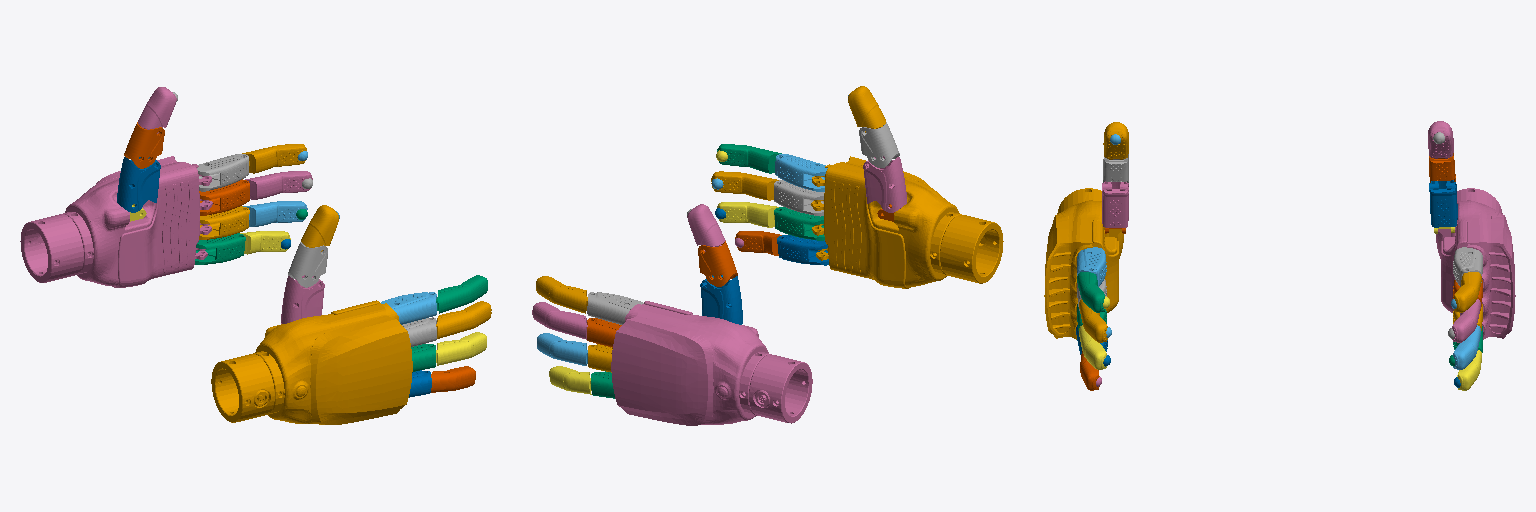
--- Render facts (derived) ---
3 views of the same robot in one strip: view 1: azimuth 30°, elevation 25°; view 2: azimuth 150°, elevation 25°; view 3: azimuth 270°, elevation 25° (orthographic).
Robot: g1_inspire_gen4 — 73 links, 72 joints (53 revolute, 19 fixed); root link pelvis; default pose: every joint at zero.
Links seen in each view (by area): view 1: right_base_link, left_base_link, left_thumb_2, right_thumb_2, left_index_1, left_middle_2, right_thumb_3, left_thumb_3, right_middle_2, right_index_1, left_index_2, right_index_2 (+11 smaller); view 2: left_base_link, right_base_link, right_thumb_2, left_thumb_2, right_index_1, right_middle_2, left_thumb_3, right_thumb_3, left_middle_2, left_index_1, right_index_2, left_index_2 (+12 smaller); view 3: left_base_link, right_base_link, left_thumb_2, right_thumb_2, right_index_2, right_index_1, left_index_1, left_index_2, right_thumb_4, left_thumb_4, left_middle_2, right_middle_2 (+5 smaller).
Boxes of the visible links, box(x1,y1,x2,y2) form: right_base_link: box(211, 300, 412, 424); left_base_link: box(20, 156, 212, 287); left_thumb_2: box(117, 157, 160, 212); right_thumb_2: box(281, 275, 324, 323); left_index_1: box(197, 154, 248, 191); left_middle_2: box(245, 171, 312, 199); right_thumb_3: box(288, 242, 327, 287); left_thumb_3: box(124, 122, 164, 168); right_middle_2: box(436, 301, 491, 338); right_index_1: box(381, 292, 436, 324); left_index_2: box(242, 144, 306, 173); right_index_2: box(436, 275, 487, 313); left_base_link: box(611, 301, 812, 425); right_base_link: box(811, 156, 1003, 288); right_thumb_2: box(863, 156, 906, 212); left_thumb_2: box(700, 275, 742, 324); right_index_1: box(775, 154, 827, 191); right_middle_2: box(711, 171, 778, 200); left_thumb_3: box(698, 241, 737, 286); right_thumb_3: box(859, 122, 899, 167); left_middle_2: box(532, 302, 587, 339); left_index_1: box(587, 292, 643, 324); right_index_2: box(717, 144, 781, 173); left_index_2: box(536, 276, 587, 313); left_base_link: box(1436, 188, 1515, 339); right_base_link: box(1044, 188, 1123, 339); left_thumb_2: box(1429, 180, 1457, 227); right_thumb_2: box(1102, 181, 1128, 227); right_index_2: box(1077, 272, 1104, 312); right_index_1: box(1077, 247, 1106, 286); left_index_1: box(1453, 247, 1482, 286); left_index_2: box(1454, 272, 1481, 312); right_thumb_4: box(1103, 122, 1128, 159); left_thumb_4: box(1428, 121, 1453, 158); left_middle_2: box(1452, 299, 1480, 342); right_middle_2: box(1079, 299, 1107, 342).
Size in the robot's own frame: 0.2469 by 0.3729 by 0.1781 metres.
Meshes: 59 distinct files referenced, 26 mesh visuals loaded (26 OBJ); not drawn: 33 (reference not matched to a file when rendering).

URDF robot description (g1_inspire_gen4):
<robot name="g1_inspire_gen4">
<!-- <mujoco>
    <compiler meshdir="meshes" discardvisual="false"/>
  </mujoco> -->

  <link name="pelvis">
    <inertial>
      <origin xyz="0 0 -0.07605" rpy="0 0 0"/>
      <mass value="3.813"/>
      <inertia ixx="0.010549" ixy="0" ixz="2.1E-06" iyy="0.0093089" iyz="0" izz="0.0079184"/>
    </inertial>
    <visual>
      <origin xyz="0 0 0" rpy="0 0 0"/>
      <geometry>
        <mesh filename="meshes/pelvis.STL"/>
      </geometry>
      <material name="dark">
        <color rgba="0.2 0.2 0.2 1"/>
      </material>
    </visual>
  </link>
  <link name="pelvis_contour_link">
    <inertial>
      <origin xyz="0 0 0" rpy="0 0 0"/>
      <mass value="0.001"/>
      <inertia ixx="1e-7" ixy="0" ixz="0" iyy="1e-7" iyz="0" izz="1e-7"/>
    </inertial>
    <visual>
      <origin xyz="0 0 0" rpy="0 0 0"/>
      <geometry>
        <mesh filename="meshes/pelvis_contour_link.STL"/>
      </geometry>
      <material name="white">
        <color rgba="0.7 0.7 0.7 1"/>
      </material>
    </visual>
    <collision>
      <origin xyz="0 0 0" rpy="0 0 0"/>
      <geometry>
        <mesh filename="meshes/pelvis_contour_link.STL"/>
      </geometry>
    </collision>
  </link>
  <joint name="pelvis_contour_joint" type="fixed">
    <parent link="pelvis"/>
    <child link="pelvis_contour_link"/>
  </joint>

  <!-- Legs -->
  <link name="left_hip_pitch_link">
    <inertial>
      <origin xyz="0.002741 0.047791 -0.02606" rpy="0 0 0"/>
      <mass value="1.35"/>
      <inertia ixx="0.001811" ixy="3.68E-05" ixz="-3.44E-05" iyy="0.0014193" iyz="0.000171" izz="0.0012812"/>
    </inertial>
    <visual>
      <origin xyz="0 0 0" rpy="0 0 0"/>
      <geometry>
        <mesh filename="meshes/left_hip_pitch_link.STL"/>
      </geometry>
      <material name="dark">
        <color rgba="0.2 0.2 0.2 1"/>
      </material>
    </visual>
    <collision>
      <origin xyz="0 0 0" rpy="0 0 0"/>
      <geometry>
        <mesh filename="meshes/left_hip_pitch_link.STL"/>
      </geometry>
    </collision>
  </link>
  <joint name="left_hip_pitch_joint" type="revolute">
    <origin xyz="0 0.064452 -0.1027" rpy="0 0 0"/>
    <parent link="pelvis"/>
    <child link="left_hip_pitch_link"/>
    <axis xyz="0 1 0"/>
    <limit lower="-2.5307" upper="2.8798" effort="88" velocity="32"/>
  </joint>
  <link name="left_hip_roll_link">
    <inertial>
      <origin xyz="0.029812 -0.001045 -0.087934" rpy="0 0 0"/>
      <mass value="1.52"/>
      <inertia ixx="0.0023773" ixy="-3.8E-06" ixz="-0.0003908" iyy="0.0024123" iyz="1.84E-05" izz="0.0016595"/>
    </inertial>
    <visual>
      <origin xyz="0 0 0" rpy="0 0 0"/>
      <geometry>
        <mesh filename="meshes/left_hip_roll_link.STL"/>
      </geometry>
      <material name="white">
        <color rgba="0.7 0.7 0.7 1"/>
      </material>
    </visual>
    <collision>
      <origin xyz="0 0 0" rpy="0 0 0"/>
      <geometry>
        <mesh filename="meshes/left_hip_roll_link.STL"/>
      </geometry>
    </collision>
  </link>
  <joint name="left_hip_roll_joint" type="revolute">
    <origin xyz="0 0.052 -0.030465" rpy="0 -0.1749 0"/>
    <parent link="left_hip_pitch_link"/>
    <child link="left_hip_roll_link"/>
    <axis xyz="1 0 0"/>
    <limit lower="-0.5236" upper="2.9671" effort="139" velocity="20"/>
  </joint>
  <link name="left_hip_yaw_link">
    <inertial>
      <origin xyz="-0.057709 -0.010981 -0.15078" rpy="0 0 0"/>
      <mass value="1.702"/>
      <inertia ixx="0.0057774" ixy="-0.0005411" ixz="-0.0023948" iyy="0.0076124" iyz="-0.0007072" izz="0.003149"/>
    </inertial>
    <visual>
      <origin xyz="0 0 0" rpy="0 0 0"/>
      <geometry>
        <mesh filename="meshes/left_hip_yaw_link.STL"/>
      </geometry>
      <material name="white">
        <color rgba="0.7 0.7 0.7 1"/>
      </material>
    </visual>
    <collision>
      <origin xyz="0 0 0" rpy="0 0 0"/>
      <geometry>
        <mesh filename="meshes/left_hip_yaw_link.STL"/>
      </geometry>
    </collision>
  </link>
  <joint name="left_hip_yaw_joint" type="revolute">
    <origin xyz="0.025001 0 -0.12412" rpy="0 0 0"/>
    <parent link="left_hip_roll_link"/>
    <child link="left_hip_yaw_link"/>
    <axis xyz="0 0 1"/>
    <limit lower="-2.7576" upper="2.7576" effort="88" velocity="32"/>
  </joint>
  <link name="left_knee_link">
    <inertial>
      <origin xyz="0.005457 0.003964 -0.12074" rpy="0 0 0"/>
      <mass value="1.932"/>
      <inertia ixx="0.011329" ixy="4.82E-05" ixz="-4.49E-05" iyy="0.011277" iyz="-0.0007146" izz="0.0015168"/>
    </inertial>
    <visual>
      <origin xyz="0 0 0" rpy="0 0 0"/>
      <geometry>
        <mesh filename="meshes/left_knee_link.STL"/>
      </geometry>
      <material name="white">
        <color rgba="0.7 0.7 0.7 1"/>
      </material>
    </visual>
    <collision>
      <origin xyz="0 0 0" rpy="0 0 0"/>
      <geometry>
        <mesh filename="meshes/left_knee_link.STL"/>
      </geometry>
    </collision>
  </link>
  <joint name="left_knee_joint" type="revolute">
    <origin xyz="-0.078273 0.0021489 -0.17734" rpy="0 0.1749 0"/>
    <parent link="left_hip_yaw_link"/>
    <child link="left_knee_link"/>
    <axis xyz="0 1 0"/>
    <limit lower="-0.087267" upper="2.8798" effort="139" velocity="20"/>
  </joint>
  <link name="left_ankle_pitch_link">
    <inertial>
      <origin xyz="-0.007269 0 0.011137" rpy="0 0 0"/>
      <mass value="0.074"/>
      <inertia ixx="8.4E-06" ixy="0" ixz="-2.9E-06" iyy="1.89E-05" iyz="0" izz="1.26E-05"/>
    </inertial>
    <visual>
      <origin xyz="0 0 0" rpy="0 0 0"/>
      <geometry>
        <mesh filename="meshes/left_ankle_pitch_link.STL"/>
      </geometry>
      <material name="white">
        <color rgba="0.7 0.7 0.7 1"/>
      </material>
    </visual>
    <collision>
      <origin xyz="0 0 0" rpy="0 0 0"/>
      <geometry>
        <mesh filename="meshes/left_ankle_pitch_link.STL"/>
      </geometry>
    </collision>
  </link>
  <joint name="left_ankle_pitch_joint" type="revolute">
    <origin xyz="0 -9.4445E-05 -0.30001" rpy="0 0 0"/>
    <parent link="left_knee_link"/>
    <child link="left_ankle_pitch_link"/>
    <axis xyz="0 1 0"/>
    <limit lower="-0.87267" upper="0.5236" effort="50" velocity="37"/>
  </joint>
  <link name="left_ankle_roll_link">
    <inertial>
      <origin xyz="0.026505 0 -0.016425" rpy="0 0 0"/>
      <mass value="0.608"/>
      <inertia ixx="0.0002231" ixy="2E-07" ixz="8.91E-05" iyy="0.0016161" iyz="-1E-07" izz="0.0016667"/>
    </inertial>
    <visual>
      <origin xyz="0 0 0" rpy="0 0 0"/>
      <geometry>
        <mesh filename="meshes/left_ankle_roll_link.STL"/>
      </geometry>
      <material name="dark">
        <color rgba="0.2 0.2 0.2 1"/>
      </material>
    </visual>
    <collision>
      <origin xyz="-0.05 0.025 -0.03" rpy="0 0 0"/>
      <geometry>
        <sphere radius="0.005"/>
      </geometry>
    </collision>
    <collision>
      <origin xyz="-0.05 -0.025 -0.03" rpy="0 0 0"/>
      <geometry>
        <sphere radius="0.005"/>
      </geometry>
    </collision>
    <collision>
      <origin xyz="0.12 0.03 -0.03" rpy="0 0 0"/>
      <geometry>
        <sphere radius="0.005"/>
      </geometry>
    </collision>
    <collision>
      <origin xyz="0.12 -0.03 -0.03" rpy="0 0 0"/>
      <geometry>
        <sphere radius="0.005"/>
      </geometry>
    </collision>
  </link>
  <joint name="left_ankle_roll_joint" type="revolute">
    <origin xyz="0 0 -0.017558" rpy="0 0 0"/>
    <parent link="left_ankle_pitch_link"/>
    <child link="left_ankle_roll_link"/>
    <axis xyz="1 0 0"/>
    <limit lower="-0.2618" upper="0.2618" effort="50" velocity="37"/>
  </joint>
  <link name="right_hip_pitch_link">
    <inertial>
      <origin xyz="0.002741 -0.047791 -0.02606" rpy="0 0 0"/>
      <mass value="1.35"/>
      <inertia ixx="0.001811" ixy="-3.68E-05" ixz="-3.44E-05" iyy="0.0014193" iyz="-0.000171" izz="0.0012812"/>
    </inertial>
    <visual>
      <origin xyz="0 0 0" rpy="0 0 0"/>
      <geometry>
        <mesh filename="meshes/right_hip_pitch_link.STL"/>
      </geometry>
      <material name="dark">
        <color rgba="0.2 0.2 0.2 1"/>
      </material>
    </visual>
    <collision>
      <origin xyz="0 0 0" rpy="0 0 0"/>
      <geometry>
        <mesh filename="meshes/right_hip_pitch_link.STL"/>
      </geometry>
    </collision>
  </link>
  <joint name="right_hip_pitch_joint" type="revolute">
    <origin xyz="0 -0.064452 -0.1027" rpy="0 0 0"/>
    <parent link="pelvis"/>
    <child link="right_hip_pitch_link"/>
    <axis xyz="0 1 0"/>
    <limit lower="-2.5307" upper="2.8798" effort="88" velocity="32"/>
  </joint>
  <link name="right_hip_roll_link">
    <inertial>
      <origin xyz="0.029812 0.001045 -0.087934" rpy="0 0 0"/>
      <mass value="1.52"/>
      <inertia ixx="0.0023773" ixy="3.8E-06" ixz="-0.0003908" iyy="0.0024123" iyz="-1.84E-05" izz="0.0016595"/>
    </inertial>
    <visual>
      <origin xyz="0 0 0" rpy="0 0 0"/>
      <geometry>
        <mesh filename="meshes/right_hip_roll_link.STL"/>
      </geometry>
      <material name="white">
        <color rgba="0.7 0.7 0.7 1"/>
      </material>
    </visual>
    <collision>
      <origin xyz="0 0 0" rpy="0 0 0"/>
      <geometry>
        <mesh filename="meshes/right_hip_roll_link.STL"/>
      </geometry>
    </collision>
  </link>
  <joint name="right_hip_roll_joint" type="revolute">
    <origin xyz="0 -0.052 -0.030465" rpy="0 -0.1749 0"/>
    <parent link="right_hip_pitch_link"/>
    <child link="right_hip_roll_link"/>
    <axis xyz="1 0 0"/>
    <limit lower="-2.9671" upper="0.5236" effort="139" velocity="20"/>
  </joint>
  <link name="right_hip_yaw_link">
    <inertial>
      <origin xyz="-0.057709 0.010981 -0.15078" rpy="0 0 0"/>
      <mass value="1.702"/>
      <inertia ixx="0.0057774" ixy="0.0005411" ixz="-0.0023948" iyy="0.0076124" iyz="0.0007072" izz="0.003149"/>
    </inertial>
    <visual>
      <origin xyz="0 0 0" rpy="0 0 0"/>
      <geometry>
        <mesh filename="meshes/right_hip_yaw_link.STL"/>
      </geometry>
      <material name="white">
        <color rgba="0.7 0.7 0.7 1"/>
      </material>
    </visual>
    <collision>
      <origin xyz="0 0 0" rpy="0 0 0"/>
      <geometry>
        <mesh filename="meshes/right_hip_yaw_link.STL"/>
      </geometry>
    </collision>
  </link>
  <joint name="right_hip_yaw_joint" type="revolute">
    <origin xyz="0.025001 0 -0.12412" rpy="0 0 0"/>
    <parent link="right_hip_roll_link"/>
    <child link="right_hip_yaw_link"/>
    <axis xyz="0 0 1"/>
    <limit lower="-2.7576" upper="2.7576" effort="88" velocity="32"/>
  </joint>
  <link name="right_knee_link">
    <inertial>
      <origin xyz="0.005457 -0.003964 -0.12074" rpy="0 0 0"/>
      <mass value="1.932"/>
      <inertia ixx="0.011329" ixy="-4.82E-05" ixz="4.49E-05" iyy="0.011277" iyz="0.0007146" izz="0.0015168"/>
    </inertial>
    <visual>
      <origin xyz="0 0 0" rpy="0 0 0"/>
      <geometry>
        <mesh filename="meshes/right_knee_link.STL"/>
      </geometry>
      <material name="white">
        <color rgba="0.7 0.7 0.7 1"/>
      </material>
    </visual>
    <collision>
      <origin xyz="0 0 0" rpy="0 0 0"/>
      <geometry>
        <mesh filename="meshes/right_knee_link.STL"/>
      </geometry>
    </collision>
  </link>
  <joint name="right_knee_joint" type="revolute">
    <origin xyz="-0.078273 -0.0021489 -0.17734" rpy="0 0.1749 0"/>
    <parent link="right_hip_yaw_link"/>
    <child link="right_knee_link"/>
    <axis xyz="0 1 0"/>
    <limit lower="-0.087267" upper="2.8798" effort="139" velocity="20"/>
  </joint>
  <link name="right_ankle_pitch_link">
    <inertial>
      <origin xyz="-0.007269 0 0.011137" rpy="0 0 0"/>
      <mass value="0.074"/>
      <inertia ixx="8.4E-06" ixy="0" ixz="-2.9E-06" iyy="1.89E-05" iyz="0" izz="1.26E-05"/>
    </inertial>
    <visual>
      <origin xyz="0 0 0" rpy="0 0 0"/>
      <geometry>
        <mesh filename="meshes/right_ankle_pitch_link.STL"/>
      </geometry>
      <material name="white">
        <color rgba="0.7 0.7 0.7 1"/>
      </material>
    </visual>
    <collision>
      <origin xyz="0 0 0" rpy="0 0 0"/>
      <geometry>
        <mesh filename="meshes/right_ankle_pitch_link.STL"/>
      </geometry>
    </collision>
  </link>
  <joint name="right_ankle_pitch_joint" type="revolute">
    <origin xyz="0 9.4445E-05 -0.30001" rpy="0 0 0"/>
    <parent link="right_knee_link"/>
    <child link="right_ankle_pitch_link"/>
    <axis xyz="0 1 0"/>
    <limit lower="-0.87267" upper="0.5236" effort="50" velocity="37"/>
  </joint>
  <link name="right_ankle_roll_link">
    <inertial>
      <origin xyz="0.026505 0 -0.016425" rpy="0 0 0"/>
      <mass value="0.608"/>
      <inertia ixx="0.0002231" ixy="-2E-07" ixz="8.91E-05" iyy="0.0016161" iyz="1E-07" izz="0.0016667"/>
    </inertial>
    <visual>
      <origin xyz="0 0 0" rpy="0 0 0"/>
      <geometry>
        <mesh filename="meshes/right_ankle_roll_link.STL"/>
      </geometry>
      <material name="dark">
        <color rgba="0.2 0.2 0.2 1"/>
      </material>
    </visual>
    <collision>
      <origin xyz="-0.05 0.025 -0.03" rpy="0 0 0"/>
      <geometry>
        <sphere radius="0.005"/>
      </geometry>
    </collision>
    <collision>
      <origin xyz="-0.05 -0.025 -0.03" rpy="0 0 0"/>
      <geometry>
        <sphere radius="0.005"/>
      </geometry>
    </collision>
    <collision>
      <origin xyz="0.12 0.03 -0.03" rpy="0 0 0"/>
      <geometry>
        <sphere radius="0.005"/>
      </geometry>
    </collision>
    <collision>
      <origin xyz="0.12 -0.03 -0.03" rpy="0 0 0"/>
      <geometry>
        <sphere radius="0.005"/>
      </geometry>
    </collision>
  </link>
  <joint name="right_ankle_roll_joint" type="revolute">
    <origin xyz="0 0 -0.017558" rpy="0 0 0"/>
    <parent link="right_ankle_pitch_link"/>
    <child link="right_ankle_roll_link"/>
    <axis xyz="1 0 0"/>
    <limit lower="-0.2618" upper="0.2618" effort="50" velocity="37"/>
  </joint>

  <!-- Torso -->
  <link name="waist_yaw_link">
    <inertial>
      <origin xyz="0.003494 0.000233 0.018034" rpy="0 0 0"/>
      <mass value="0.214"/>
      <inertia ixx="0.00010673" ixy="2.703E-06" ixz="-7.631E-06" iyy="0.00010422" iyz="-2.01E-07" izz="0.0001625"/>
    </inertial>
    <visual>
      <origin xyz="0 0 0" rpy="0 0 0"/>
      <geometry>
        <mesh filename="meshes/waist_yaw_link_rev_1_0.STL"/>
      </geometry>
      <material name="white">
        <color rgba="0.7 0.7 0.7 1"/>
      </material>
    </visual>
  </link>
  <joint name="waist_yaw_joint" type="revolute">
    <origin xyz="0 0 0" rpy="0 0 0"/>
    <parent link="pelvis"/>
    <child link="waist_yaw_link"/>
    <axis xyz="0 0 1"/>
    <limit lower="-2.618" upper="2.618" effort="88" velocity="32"/>
  </joint>
  <link name="waist_roll_link">
    <inertial>
      <origin xyz="0 2.3E-05 0" rpy="0 0 0"/>
      <mass value="0.086"/>
      <inertia ixx="7.079E-06" ixy="0" ixz="0" iyy="6.339E-06" iyz="0" izz="8.245E-06"/>
    </inertial>
    <visual>
      <origin xyz="0 0 0" rpy="0 0 0"/>
      <geometry>
        <mesh filename="meshes/waist_roll_link_rev_1_0.STL"/>
      </geometry>
      <material name="white">
        <color rgba="0.7 0.7 0.7 1"/>
      </material>
    </visual>
  </link>
  <joint name="waist_roll_joint" type="revolute">
    <origin xyz="-0.0039635 0 0.044" rpy="0 0 0"/>
    <parent link="waist_yaw_link"/>
    <child link="waist_roll_link"/>
    <axis xyz="1 0 0"/>
    <limit lower="-0.52" upper="0.52" effort="50" velocity="37"/>
  </joint>
  <link name="torso_link">
    <inertial>
      <origin xyz="0.000931 0.000346 0.15082" rpy="0 0 0"/>
      <mass value="6.78"/>
      <inertia ixx="0.05905" ixy="3.3302E-05" ixz="-0.0017715" iyy="0.047014" iyz="-2.2399E-05" izz="0.025652"/>
    </inertial>
    <visual>
      <origin xyz="0 0 0" rpy="0 0 0"/>
      <geometry>
        <mesh filename="meshes/torso_link_rev_1_0.STL"/>
      </geometry>
      <material name="white">
        <color rgba="0.7 0.7 0.7 1"/>
      </material>
    </visual>
    <collision>
      <origin xyz="0 0 0" rpy="0 0 0"/>
      <geometry>
        <mesh filename="meshes/torso_link_rev_1_0.STL"/>
      </geometry>
    </collision>
  </link>
  <joint name="waist_pitch_joint" type="revolute">
    <origin xyz="0 0 0" rpy="0 0 0"/>
    <parent link="waist_roll_link"/>
    <child link="torso_link"/>
    <axis xyz="0 1 0"/>
    <limit lower="-0.52" upper="0.52" effort="50" velocity="37"/>
  </joint>

  <!-- LOGO -->
  <joint name="logo_joint" type="fixed">
    <origin xyz="0.0039635 0 -0.044" rpy="0 0 0"/>
    <parent link="torso_link"/>
    <child link="logo_link"/>
  </joint>
  <link name="logo_link">
    <inertial>
      <origin xyz="0 0 0" rpy="0 0 0"/>
      <mass value="0.001"/>
      <inertia ixx="1e-7" ixy="0" ixz="0" iyy="1e-7" iyz="0" izz="1e-7"/>
    </inertial>
    <visual>
      <origin xyz="0 0 0" rpy="0 0 0"/>
      <geometry>
        <mesh filename="meshes/logo_link.STL"/>
      </geometry>
      <material name="dark">
        <color rgba="0.2 0.2 0.2 1"/>
      </material>
    </visual>
    <collision>
      <origin xyz="0 0 0" rpy="0 0 0"/>
      <geometry>
        <mesh filename="meshes/logo_link.STL"/>
      </geometry>
    </collision>
  </link>

  <!-- Head -->
  <link name="head_link">
    <inertial>
      <origin xyz="0.005267 0.000299 0.449869" rpy="0 0 0"/>
      <mass value="1.036"/>
      <inertia ixx="0.004085051" ixy="-2.543E-06" ixz="-6.9455E-05" iyy="0.004185212" iyz="-3.726E-06" izz="0.001807911"/>
    </inertial>
    <visual>
      <origin xyz="0 0 0" rpy="0 0 0"/>
      <geometry>
        <mesh filename="meshes/head_link.STL"/>
      </geometry>
      <material name="dark">
        <color rgba="0.2 0.2 0.2 1"/>
      </material>
    </visual>
    <collision>
      <origin xyz="0 0 0" rpy="0 0 0"/>
      <geometry>
        <mesh filename="meshes/head_link.STL"/>
      </geometry>
    </collision>
  </link>
  <joint name="head_joint" type="fixed">
    <origin xyz="0.0039635 0 -0.044" rpy="0 0 0"/>
    <parent link="torso_link"/>
    <child link="head_link"/>
  </joint>


  <!-- IMU -->
  <link name="imu_in_torso"></link>
  <joint name="imu_in_torso_joint" type="fixed">
    <origin xyz="-0.03959 -0.00224 0.14792" rpy="0 0 0"/>
    <parent link="torso_link"/>
    <child link="imu_in_torso"/>
  </joint>

  <link name="imu_in_pelvis"></link>
  <joint name="imu_in_pelvis_joint" type="fixed">
    <origin xyz="0.04525 0 -0.08339" rpy="0 0 0"/>
    <parent link="pelvis"/>
    <child link="imu_in_pelvis"/>
  </joint>

  <!-- d435 -->
  <link name="d435_link"></link>
  <joint name="d435_joint" type="fixed">
    <origin xyz="0.0576235 0.01753 0.42987" rpy="0 0.8307767239493009 0"/>
    <parent link="torso_link"/>
    <child link="d435_link"/>
  </joint>

  <!-- mid360 -->
  <link name="mid360_link"></link>
  <joint name="mid360_joint" type="fixed">
    <origin xyz="0.0002835 0.00003 0.41618" rpy="0 0.04014257279586953 0"/>
    <parent link="torso_link"/>
    <child link="mid360_link"/>
  </joint>

  <!-- Arm -->
  <link name="left_shoulder_pitch_link">
    <inertial>
      <origin xyz="0 0.035892 -0.011628" rpy="0 0 0"/>
      <mass value="0.718"/>
      <inertia ixx="0.0004291" ixy="-9.2E-06" ixz="6.4E-06" iyy="0.000453" iyz="2.26E-05" izz="0.000423"/>
    </inertial>
    <visual>
      <origin xyz="0 0 0" rpy="0 0 0"/>
      <geometry>
        <mesh filename="meshes/left_shoulder_pitch_link.STL"/>
      </geometry>
      <material name="white">
        <color rgba="0.7 0.7 0.7 1"/>
      </material>
    </visual>
    <collision>
      <origin xyz="0 0.04 -0.01" rpy="0 1.5707963267948966 0"/>
      <geometry>
        <cylinder radius="0.03" length="0.05"/>
      </geometry>
    </collision>
  </link>
  <joint name="left_shoulder_pitch_joint" type="revolute">
    <origin xyz="0.0039563 0.10022 0.24778" rpy="0.27931 5.4949E-05 -0.00019159"/>
    <parent link="torso_link"/>
    <child link="left_shoulder_pitch_link"/>
    <axis xyz="0 1 0"/>
    <limit lower="-3.0892" upper="2.6704" effort="25" velocity="37"/>
  </joint>
  <link name="left_shoulder_roll_link">
    <inertial>
      <origin xyz="-0.000227 0.00727 -0.063243" rpy="0 0 0"/>
      <mass value="0.643"/>
      <inertia ixx="0.0006177" ixy="-1E-06" ixz="8.7E-06" iyy="0.0006912" iyz="-5.3E-06" izz="0.0003894"/>
    </inertial>
    <visual>
      <origin xyz="0 0 0" rpy="0 0 0"/>
      <geometry>
        <mesh filename="meshes/left_shoulder_roll_link.STL"/>
      </geometry>
      <material name="white">
        <color rgba="0.7 0.7 0.7 1"/>
      </material>
    </visual>
    <collision>
      <origin xyz="-0.004 0.006 -0.053" rpy="0 0 0"/>
      <geometry>
        <cylinder radius="0.03" length="0.03"/>
      </geometry>
    </collision>
  </link>
  <joint name="left_shoulder_roll_joint" type="revolute">
    <origin xyz="0 0.038 -0.013831" rpy="-0.27925 0 0"/>
    <parent link="left_shoulder_pitch_link"/>
    <child link="left_shoulder_roll_link"/>
    <axis xyz="1 0 0"/>
    <limit lower="-1.5882" upper="2.2515" effort="25" velocity="37"/>
  </joint>
  <link name="left_shoulder_yaw_link">
    <inertial>
      <origin xyz="0.010773 -0.002949 -0.072009" rpy="0 0 0"/>
      <mass value="0.734"/>
      <inertia ixx="0.0009988" ixy="7.9E-06" ixz="0.0001412" iyy="0.0010605" iyz="-2.86E-05" izz="0.0004354"/>
    </inertial>
    <visual>
      <origin xyz="0 0 0" rpy="0 0 0"/>
      <geometry>
        <mesh filename="meshes/left_shoulder_yaw_link.STL"/>
      </geometry>
      <material name="white">
        <color rgba="0.7 0.7 0.7 1"/>
      </material>
    </visual>
    <collision>
      <origin xyz="0 0 0" rpy="0 0 0"/>
      <geometry>
        <mesh filename="meshes/left_shoulder_yaw_link.STL"/>
      </geometry>
    </collision>
  </link>
  <joint name="left_shoulder_yaw_joint" type="revolute">
    <origin xyz="0 0.00624 -0.1032" rpy="0 0 0"/>
    <parent link="left_shoulder_roll_link"/>
    <child link="left_shoulder_yaw_link"/>
    <axis xyz="0 0 1"/>
    <limit lower="-2.618" upper="2.618" effort="25" velocity="37"/>
  </joint>
  <link name="left_elbow_link">
    <inertial>
      <origin xyz="0.064956 0.004454 -0.010062" rpy="0 0 0"/>
      <mass value="0.6"/>
      <inertia ixx="0.0002891" ixy="6.53E-05" ixz="1.72E-05" iyy="0.0004152" iyz="-5.6E-06" izz="0.0004197"/>
    </inertial>
    <visual>
      <origin xyz="0 0 0" rpy="0 0 0"/>
      <geometry>
        <mesh filename="meshes/left_elbow_link.STL"/>
      </geometry>
      <material name="white">
        <color rgba="0.7 0.7 0.7 1"/>
      </material>
    </visual>
    <collision>
      <origin xyz="0 0 0" rpy="0 0 0"/>
      <geometry>
        <mesh filename="meshes/left_elbow_link.STL"/>
      </geometry>
    </collision>
  </link>
  <joint name="left_elbow_joint" type="revolute">
    <origin xyz="0.015783 0 -0.080518" rpy="0 0 0"/>
    <parent link="left_shoulder_yaw_link"/>
    <child link="left_elbow_link"/>
    <axis xyz="0 1 0"/>
    <limit lower="-1.0472" upper="2.0944" effort="25" velocity="37"/>
  </joint>
  <joint name="left_wrist_roll_joint" type="revolute">
    <origin xyz="0.100 0.00188791 -0.010" rpy="0 0 0"/>
    <axis xyz="1 0 0"/>
    <parent link="left_elbow_link"/>
    <child link="left_wrist_roll_link"/>
    <limit effort="25" velocity="37" lower="-1.972222054" upper="1.972222054"/>
  </joint>
  <link name="left_wrist_roll_link">
    <inertial>
      <origin xyz="0.01713944778 0.00053759094 0.00000048864" rpy="0 0 0"/>
      <mass value="0.08544498"/>
      <inertia ixx="0.00004821544023" ixy="-0.00000424511021" ixz="0.00000000510599" iyy="0.00003722899093" iyz="-0.00000000123525" izz="0.00005482106541"/>
    </inertial>
    <visual>
      <origin xyz="0 0 0" rpy="0 0 0"/>
      <geometry>
        <mesh filename="meshes/left_wrist_roll_link.STL"/>
      </geometry>
      <material name="white">
        <color rgba="0.7 0.7 0.7 1"/>
      </material>
    </visual>
    <collision>
      <origin xyz="0 0 0" rpy="0 0 0"/>
      <geometry>
        <mesh filename="meshes/left_wrist_roll_link.STL"/>
      </geometry>
    </collision>
  </link>
  <joint name="left_wrist_pitch_joint" type="revolute">
    <origin xyz="0.038 0 0" rpy="0 0 0"/>
    <axis xyz="0 1 0"/>
    <parent link="left_wrist_roll_link"/>
    <child link="left_wrist_pitch_link"/>
    <limit effort="5" velocity="22" lower="-1.614429558" upper="1.614429558"/>
  </joint>
  <link name="left_wrist_pitch_link">
    <inertial>
      <origin xyz="0.02299989837 -0.00111685314 -0.00111658096" rpy="0 0 0"/>
      <mass value="0.48404956"/>
      <inertia ixx="0.00016579646273" ixy="-0.00001231206746" ixz="0.00001231699194" iyy="0.00042954057410" iyz="0.00000081417712" izz="0.00042953697654"/>
    </inertial>
    <visual>
      <origin xyz="0 0 0" rpy="0 0 0"/>
      <geometry>
        <mesh filename="meshes/left_wrist_pitch_link.STL"/>
      </geometry>
      <material name="white">
        <color rgba="0.7 0.7 0.7 1"/>
      </material>
    </visual>
    <collision>
      <origin xyz="0 0 0" rpy="0 0 0"/>
      <geometry>
        <mesh filename="meshes/left_wrist_pitch_link.STL"/>
      </geometry>
    </collision>
  </link>
  <joint name="left_wrist_yaw_joint" type="revolute">
    <origin xyz="0.046 0 0" rpy="0 0 0"/>
    <axis xyz="0 0 1"/>
    <parent link="left_wrist_pitch_link"/>
    <child link="left_wrist_yaw_link"/>
    <limit effort="5" velocity="22" lower="-1.614429558" upper="1.614429558"/>
  </joint>
  <link name="left_wrist_yaw_link">
    <inertial>
      <origin xyz="0.02200381568 0.00049485096 0.00053861123" rpy="0 0 0"/>
      <mass value="0.08457647"/>
      <inertia ixx="0.00004929128828" ixy="-0.00000045735494" ixz="0.00000445867591" iyy="0.00005973338134" iyz="0.00000043217198" izz="0.00003928083826"/>
    </inertial>
    <visual>
      <origin xyz="0 0 0" rpy="0 0 0"/>
      <geometry>
        <mesh filename="meshes/left_wrist_yaw_link.STL"/>
      </geometry>
      <material name="white">
        <color rgba="0.7 0.7 0.7 1"/>
      </material>
    </visual>
    <collision>
      <origin xyz="0 0 0" rpy="0 0 0"/>
      <geometry>
        <mesh filename="meshes/left_wrist_yaw_link.STL"/>
      </geometry>
    </collision>
  </link>
  <link name="left_base_link">
    <inertial>
      <origin xyz="0. 0. 0." rpy="0. 0. 0."/>
      <mass value="0.2600344"/>
      <inertia ixx="0.001" ixy="0." ixz="0." iyy="0.001" iyz="0." izz="0.001"/>
    </inertial>
    <visual>
      <origin xyz="-0. -0. -0." rpy="-0. -0. -0."/>
      <geometry>
        <mesh filename="meshes/left_base_link_visuals.obj" scale="1. 1. 1."/>
      </geometry>
    </visual>
    <collision>
      <origin xyz="-0. -0. -0." rpy="-0. -0. -0."/>
      <geometry>
        <mesh filename="meshes/left_base_link_collisions.obj" scale="1. 1. 1."/>
      </geometry>
    </collision>
  </link>
  <joint name="left_hand_palm_joint" type="fixed">
    <origin xyz="0.152 -0.109 -0.01 " rpy="0.0000013 1.57 0.0000013"/>
    <parent link="left_wrist_yaw_link"/>
    <child link="left_base_link"/>
  </joint>
  <joint name="left_index_1_joint" type="revolute">
    <origin xyz="-0.048156 0.11125 0.045404" rpy="1.5358927 0. 1.5707927"/>
    <parent link="left_base_link"/>
    <child link="left_index_1"/>
    <axis xyz="0. 0. 1."/>
    <limit lower="0." upper="1.5238094" effort="3.5" velocity="3.5000001"/>
  </joint>
  <joint name="left_index_2_joint" type="revolute">
    <origin xyz="-0.0025949 0.0326722 0.0003 " rpy="-0.0000001 -0.0000001 0. "/>
    <parent link="left_index_1"/>
    <child link="left_index_2"/>
    <axis xyz="0. 0. 1."/>
    <limit lower="0." upper="1.5999998" effort="3.5" velocity="10.0"/>
    <mimic joint="left_index_1_joint" multiplier="1.05" offset="0."/>
  </joint>
  <joint name="left_index_tip_joint" type="fixed">
    <origin xyz="-0.008 0.048 0.008" rpy="0.0000001 -0.0000002 -0.0000001"/>
    <parent link="left_index_2"/>
    <child link="left_index_tip"/>
  </joint>
  <joint name="left_little_1_joint" type="revolute">
    <origin xyz="0.016446 0.11125 0.042817" rpy="1.6754926 0. 1.5707927"/>
    <parent link="left_base_link"/>
    <child link="left_little_1"/>
    <axis xyz="0. 0. 1."/>
    <limit lower="0." upper="1.5238094" effort="3.5" velocity="3.5000001"/>
  </joint>
  <joint name="left_little_2_joint" type="revolute">
    <origin xyz="-0.0023072 0.032694 0.0003 " rpy="-0.0000001 -0.0000002 0. "/>
    <parent link="left_little_1"/>
    <child link="left_little_2"/>
    <axis xyz="0. 0. 1."/>
    <limit lower="0." upper="1.5999998" effort="3.5" velocity="10.0"/>
    <mimic joint="left_little_1_joint" multiplier="1.05" offset="0."/>
  </joint>
  <joint name="left_little_tip_joint" type="fixed">
    <origin xyz="-0.006 0.038 0.008" rpy="-0. 0.0000001 0.0000003"/>
    <parent link="left_little_2"/>
    <child link="left_little_tip"/>
  </joint>
  <joint name="left_middle_1_joint" type="revolute">
    <origin xyz="-0.026577 0.11125 0.046044" rpy="1.5707927 0.0000002 1.5707927"/>
    <parent link="left_base_link"/>
    <child link="left_middle_1"/>
    <axis xyz="0. 0. 1."/>
    <limit lower="0." upper="1.5238094" effort="3.5" velocity="3.5000001"/>
  </joint>
  <joint name="left_middle_2_joint" type="revolute">
    <origin xyz="-0.0028436 0.032651 0.0003 " rpy="0. -0. -0.0000002"/>
    <parent link="left_middle_1"/>
    <child link="left_middle_2"/>
    <axis xyz="0. 0. 1."/>
    <limit lower="0." upper="1.5999998" effort="3.5" velocity="10.0"/>
    <mimic joint="left_middle_1_joint" multiplier="1.05" offset="0."/>
  </joint>
  <joint name="left_middle_tip_joint" type="fixed">
    <origin xyz="-0.01 0.051 0.008" rpy="0. -0.0000001 -0. "/>
    <parent link="left_middle_2"/>
    <child link="left_middle_tip"/>
  </joint>
  <joint name="left_ring_1_joint" type="revolute">
    <origin xyz="-0.004945 0.11125 0.045939" rpy="1.6231925 0. 1.5707927"/>
    <parent link="left_base_link"/>
    <child link="left_ring_1"/>
    <axis xyz="0. 0. 1."/>
    <limit lower="0." upper="1.5238094" effort="3.5" velocity="3.5000001"/>
  </joint>
  <joint name="left_ring_2_joint" type="revolute">
    <origin xyz="-0.0031431 0.032624 0.0003 " rpy="-0.0000001 -0.0000001 -0.0000001"/>
    <parent link="left_ring_1"/>
    <child link="left_ring_2"/>
    <axis xyz="0. 0. 1."/>
    <limit lower="0." upper="1.5999998" effort="3.5" velocity="10.0"/>
    <mimic joint="left_ring_1_joint" multiplier="1.05" offset="0."/>
  </joint>
  <joint name="left_ring_tip_joint" type="fixed">
    <origin xyz="-0.009 0.047 0.008" rpy="-0.0000001 -0.0000001 -0.0000001"/>
    <parent link="left_ring_2"/>
    <child link="left_ring_tip"/>
  </joint>
  <joint name="left_thumb_1_joint" type="revolute">
    <origin xyz="-0.035227 0.0908 -0.040206" rpy="-0. -0. -0."/>
    <parent link="left_base_link"/>
    <child link="left_thumb_1"/>
    <axis xyz="0. 0. 1."/>
    <limit lower="0." upper="1.7" effort="5." velocity="2."/>
  </joint>
  <joint name="left_thumb_2_joint" type="revolute">
    <origin xyz="-0.0096402 -0.0097687 0.00125 " rpy="1.5707998 0. 0.037536 "/>
    <parent link="left_thumb_1"/>
    <child link="left_thumb_2"/>
    <axis xyz="0. 0. 1."/>
    <limit lower="-0.95" upper="0." effort="5." velocity="10.0"/>
  </joint>
  <joint name="left_thumb_3_joint" type="revolute">
    <origin xyz="-0.0385855 0.0137354 -0.00085 " rpy="0.0000002 0. 0.0000003"/>
    <parent link="left_thumb_2"/>
    <child link="left_thumb_3"/>
    <axis xyz="0. 0. 1."/>
    <limit lower="-0.3799999" upper="0." effort="5." velocity="10.0"/>
    <mimic joint="left_thumb_2_joint" multiplier="0.4" offset="0."/>
  </joint>
  <joint name="left_thumb_4_joint" type="revolute">
    <origin xyz="-0.0204658 0.0083768 0.0002 " rpy="-0.0000002 0.0000001 -0.0000001"/>
    <parent link="left_thumb_3"/>
    <child link="left_thumb_4"/>
    <axis xyz="0. 0. 1."/>
    <limit lower="-0.5699999" upper="0." effort="5." velocity="10.0"/>
    <mimic joint="left_thumb_2_joint" multiplier="0.6" offset="0."/>
  </joint>
  <joint name="left_thumb_tip_joint" type="fixed">
    <origin xyz="-0.024 0.016 -0.008" rpy="-0.0000001 -0.0000001 0.0000001"/>
    <parent link="left_thumb_4"/>
    <child link="left_thumb_tip"/>
  </joint>
  
  <joint name="right_index_1_joint" type="revolute">
    <origin xyz="-0.047006 -0.1112499 0.0454441" rpy="1.6056997 -0. -1.5708 "/>
    <parent link="right_base_link"/>
    <child link="right_index_1"/>
    <axis xyz="0. 0. 1."/>
    <limit lower="0." upper="1.5238094" effort="10000000." velocity="10.0"/>
  </joint>
  <joint name="right_index_2_joint" type="revolute">
    <origin xyz="-0.0016312 0.032734 -0.0005499" rpy="0.0000001 -0.0000001 -0.0000001"/>
    <parent link="right_index_1"/>
    <child link="right_index_2"/>
    <axis xyz="0. 0. 1."/>
    <limit lower="0." upper="1.5999998" effort="3.5" velocity="10.0"/>
    <mimic joint="right_index_1_joint" multiplier="1.05" offset="0."/>
  </joint>
  <joint name="right_index_tip_joint" type="fixed">
    <origin xyz="-0.01 0.047 -0.006" rpy="-0. 0.0000001 -0. "/>
    <parent link="right_index_2"/>
    <child link="right_index_tip"/>
  </joint>
  <joint name="right_little_1_joint" type="revolute">
    <origin xyz="0.017589 -0.1112499 0.0426961" rpy="1.4660999 -0. -1.5708 "/>
    <parent link="right_base_link"/>
    <child link="right_little_1"/>
    <axis xyz="0. 0. 1."/>
    <limit lower="0." upper="1.5238094" effort="10000000." velocity="10.0"/>
  </joint>
  <joint name="right_little_2_joint" type="revolute">
    <origin xyz="-0.005182 0.032363 -0.00055 " rpy="-0. -0.0000002 1.5707998"/>
    <parent link="right_little_1"/>
    <child link="right_little_2"/>
    <axis xyz="0. 0. 1."/>
    <limit lower="0." upper="1.5999998" effort="3.5" velocity="10.0"/>
    <mimic joint="right_little_1_joint" multiplier="1.05" offset="0."/>
  </joint>
  <joint name="right_little_tip_joint" type="fixed">
    <origin xyz="0.038 0. -0.006" rpy="-0.0000001 -0.0000001 0.0000002"/>
    <parent link="right_little_2"/>
    <child link="right_little_tip"/>
  </joint>
  <joint name="right_middle_1_joint" type="revolute">
    <origin xyz="-0.025427 -0.1112499 0.0460441" rpy="1.5707998 -0.0000001 -1.5708 "/>
    <parent link="right_base_link"/>
    <child link="right_middle_1"/>
    <axis xyz="0. 0. 1."/>
    <limit lower="0." upper="1.5238094" effort="10000000." velocity="10.0"/>
  </joint>
  <joint name="right_middle_2_joint" type="revolute">
    <origin xyz="-0.0028436 0.032651 -0.0005499" rpy="0.0000001 0. -0.0000002"/>
    <parent link="right_middle_1"/>
    <child link="right_middle_2"/>
    <axis xyz="0. 0. 1."/>
    <limit lower="0." upper="1.5999998" effort="3.5" velocity="10.0"/>
    <mimic joint="right_middle_1_joint" multiplier="1.05" offset="0."/>
  </joint>
  <joint name="right_middle_tip_joint" type="fixed">
    <origin xyz="-0.01 0.05 -0.006" rpy="0.0000001 -0.0000001 0. "/>
    <parent link="right_middle_2"/>
    <child link="right_middle_tip"/>
  </joint>
  <joint name="right_ring_1_joint" type="revolute">
    <origin xyz="-0.0037966 -0.1112499 0.0458781" rpy="1.5183998 0. -1.5708 "/>
    <parent link="right_base_link"/>
    <child link="right_ring_1"/>
    <axis xyz="0. 0. 1."/>
    <limit lower="0." upper="1.5238094" effort="10000000." velocity="10.0"/>
  </joint>
  <joint name="right_ring_2_joint" type="revolute">
    <origin xyz="-0.0031431 0.032624 -0.00055 " rpy="0. -0. -0.0000001"/>
    <parent link="right_ring_1"/>
    <child link="right_ring_2"/>
    <axis xyz="0. 0. 1."/>
    <limit lower="0." upper="1.5999998" effort="3.5" velocity="10.0"/>
    <mimic joint="right_ring_1_joint" multiplier="1.05" offset="0."/>
  </joint>
  <joint name="right_ring_tip_joint" type="fixed">
    <origin xyz="-0.009 0.048 -0.006" rpy="0.0000001 -0. 0. "/>
    <parent link="right_ring_2"/>
    <child link="right_ring_tip"/>
  </joint>
  <joint name="right_thumb_1_joint" type="revolute">
    <origin xyz="-0.035227 -0.0908 -0.0419559" rpy="-3.1415927 -0.0000001 -2.8031852"/>
    <parent link="right_base_link"/>
    <child link="right_thumb_1"/>
    <axis xyz="0. 0. 1."/>
    <limit lower="0." upper="1.7" effort="10000000." velocity="10.0"/>
  </joint>
  <joint name="right_thumb_2_joint" type="revolute">
    <origin xyz="0.0063016 0.011924 -0.003 " rpy="-1.5707928 -0.0000002 0.3490926"/>
    <parent link="right_thumb_1"/>
    <child link="right_thumb_2"/>
    <axis xyz="0. 0. 1."/>
    <limit lower="0." upper="0.95" effort="10000000." velocity="10.0"/>
  </joint>
  <joint name="right_thumb_3_joint" type="revolute">
    <origin xyz="0.038292 0.014535 -0.0015 " rpy="-0.0000002 -0.0000003 -0.2000001"/>
    <parent link="right_thumb_2"/>
    <child link="right_thumb_3"/>
    <axis xyz="0. 0. 1."/>
    <limit lower="0." upper="0.38" effort="5." velocity="10.0"/>
    <mimic joint="right_thumb_2_joint" multiplier="0.4" offset="0."/>
  </joint>
  <joint name="right_thumb_4_joint" type="revolute">
    <origin xyz="0.018189 0.012576 -0.0002 " rpy="-0.0000002 -0.0000002 -0.1999994"/>
    <parent link="right_thumb_3"/>
    <child link="right_thumb_4"/>
    <axis xyz="0. 0. 1."/>
    <limit lower="0." upper="0.57" effort="5." velocity="10.0"/>
    <mimic joint="right_thumb_2_joint" multiplier="0.6" offset="0."/>
  </joint>
  <joint name="right_thumb_tip_joint" type="fixed">
    <origin xyz="0.016 0.023 -0.008" rpy="0.0000002 0.0000001 0.0000002"/>
    <parent link="right_thumb_4"/>
    <child link="right_thumb_tip"/>
  </joint>
  
  <link name="left_index_1">
    <inertial>
      <origin xyz="0. 0. 0." rpy="0. 0. 0."/>
      <mass value="0.0071995"/>
      <inertia ixx="0.001" ixy="0." ixz="0." iyy="0.001" iyz="0." izz="0.001"/>
    </inertial>
    <visual>
      <origin xyz="0. 0. 0." rpy="-3.1415927 0.0000001 3.1415925"/>
      <geometry>
        <mesh filename="meshes/left_index_1_visuals.obj" scale="1. 1. 1."/>
      </geometry>
    </visual>
    <collision>
      <origin xyz="0. 0. 0." rpy="-3.1415927 0.0000001 3.1415925"/>
      <geometry>
        <mesh filename="meshes/left_index_1_collisions.obj" scale="1. 1. 1."/>
      </geometry>
    </collision>
  </link>
  <link name="left_index_2">
    <inertial>
      <origin xyz="0. 0. 0." rpy="0. 0. 0."/>
      <mass value="0.0096869"/>
      <inertia ixx="0.001" ixy="0." ixz="0." iyy="0.001" iyz="0." izz="0.001"/>
    </inertial>
    <visual>
      <origin xyz="0. -0. -0." rpy="3.1415925 0.0000002 3.1415925"/>
      <geometry>
        <mesh filename="meshes/left_index_2_visuals.obj" scale="1. 1. 1."/>
      </geometry>
    </visual>
    <collision>
      <origin xyz="0. -0. -0." rpy="3.1415925 0.0000002 3.1415925"/>
      <geometry>
        <mesh filename="meshes/left_index_2_collisions.obj" scale="1. 1. 1."/>
      </geometry>
    </collision>
  </link>
  <link name="left_index_tip">
    <inertial>
      <origin xyz="0 0 0" rpy="0. 0. 0."/>
      <mass value="0.000001"/>
      <inertia ixx="0.00001" ixy="0." ixz="0." iyy="0.00001" iyz="0." izz="0.00001"/>
    </inertial>
    <visual>
      <origin xyz="0. 0. 0." rpy="-0. -0. -0."/>
      <geometry>
        <sphere radius="0.005"/>
      </geometry>
    </visual>
  </link>
  <link name="left_little_1">
    <inertial>
      <origin xyz="0. 0. 0." rpy="0. 0. 0."/>
      <mass value="0.0071995"/>
      <inertia ixx="0.001" ixy="0." ixz="0." iyy="0.001" iyz="0." izz="0.001"/>
    </inertial>
    <visual>
      <origin xyz="0. 0. 0." rpy="-3.1415925 0.0000002 -3.1415925"/>
      <geometry>
        <mesh filename="meshes/left_little_1_visuals.obj" scale="1. 1. 1."/>
      </geometry>
    </visual>
    <collision>
      <origin xyz="0. 0. 0." rpy="-3.1415925 0.0000002 -3.1415925"/>
      <geometry>
        <mesh filename="meshes/left_little_1_collisions.obj" scale="1. 1. 1."/>
      </geometry>
    </collision>
  </link>
  <link name="left_little_2">
    <inertial>
      <origin xyz="0. 0. 0." rpy="0. 0. 0."/>
      <mass value="0.0075926"/>
      <inertia ixx="0.001" ixy="0." ixz="0." iyy="0.001" iyz="0." izz="0.001"/>
    </inertial>
    <visual>
      <origin xyz="-0. 0. 0." rpy="-3.1415925 -0.0000001 -3.1415923"/>
      <geometry>
        <mesh filename="meshes/left_little_2_visuals.obj" scale="1. 1. 1."/>
      </geometry>
    </visual>
    <collision>
      <origin xyz="-0. 0. 0." rpy="-3.1415925 -0.0000001 -3.1415923"/>
      <geometry>
        <mesh filename="meshes/left_little_2_collisions.obj" scale="1. 1. 1."/>
      </geometry>
    </collision>
  </link>
  <link name="left_little_tip">
    <inertial>
      <origin xyz="0 0 0" rpy="0. 0. 0."/>
      <mass value="0.000001"/>
      <inertia ixx="0.00001" ixy="0." ixz="0." iyy="0.00001" iyz="0." izz="0.00001"/>
    </inertial>
    <visual>
      <origin xyz="0. 0. 0." rpy="0. -0. 0."/>
      <geometry>
        <sphere radius="0.005"/>
      </geometry>
    </visual>
  </link>
  <link name="left_middle_1">
    <inertial>
      <origin xyz="0. 0. 0." rpy="0. 0. 0."/>
      <mass value="0.0071995"/>
      <inertia ixx="0.001" ixy="0." ixz="0." iyy="0.001" iyz="0." izz="0.001"/>
    </inertial>
    <visual>
      <origin xyz="0. 0. -0." rpy="-3.1415925 0. 3.1415925"/>
      <geometry>
        <mesh filename="meshes/left_middle_1_visuals.obj" scale="1. 1. 1."/>
      </geometry>
    </visual>
    <collision>
      <origin xyz="0. 0. -0." rpy="-3.1415925 0. 3.1415925"/>
      <geometry>
        <mesh filename="meshes/left_middle_1_collisions.obj" scale="1. 1. 1."/>
      </geometry>
    </collision>
  </link>
  <link name="left_middle_2">
    <inertial>
      <origin xyz="0. 0. 0." rpy="0. 0. 0."/>
      <mass value="0.0104612"/>
      <inertia ixx="0.001" ixy="0." ixz="0." iyy="0.001" iyz="0." izz="0.001"/>
    </inertial>
    <visual>
      <origin xyz="-0. 0. -0." rpy="-3.1415925 0.0000001 -3.1415925"/>
      <geometry>
        <mesh filename="meshes/left_middle_2_visuals.obj" scale="1. 1. 1."/>
      </geometry>
    </visual>
    <collision>
      <origin xyz="-0. 0. -0." rpy="-3.1415925 0.0000001 -3.1415925"/>
      <geometry>
        <mesh filename="meshes/left_middle_2_collisions.obj" scale="1. 1. 1."/>
      </geometry>
    </collision>
  </link>
  <link name="left_middle_tip">
    <inertial>
      <origin xyz="0 0 0" rpy="0. 0. 0."/>
      <mass value="0.000001"/>
      <inertia ixx="0.00001" ixy="0." ixz="0." iyy="0.00001" iyz="0." izz="0.00001"/>
    </inertial>
    <visual>
      <origin xyz="-0. 0. -0." rpy="-0. -0. 0."/>
      <geometry>
        <sphere radius="0.005"/>
      </geometry>
    </visual>
  </link>
  <link name="left_ring_1">
    <inertial>
      <origin xyz="0. 0. 0." rpy="0. 0. 0."/>
      <mass value="0.0071995"/>
      <inertia ixx="0.001" ixy="0." ixz="0." iyy="0.001" iyz="0." izz="0.001"/>
    </inertial>
    <visual>
      <origin xyz="0. 0. 0." rpy="-3.1415925 0.0000001 -3.1415927"/>
      <geometry>
        <mesh filename="meshes/left_ring_1_visuals.obj" scale="1. 1. 1."/>
      </geometry>
    </visual>
    <collision>
      <origin xyz="0. 0. 0." rpy="-3.1415925 0.0000001 -3.1415927"/>
      <geometry>
        <mesh filename="meshes/left_ring_1_collisions.obj" scale="1. 1. 1."/>
      </geometry>
    </collision>
  </link>
  <link name="left_ring_2">
    <inertial>
      <origin xyz="0. 0. 0." rpy="0. 0. 0."/>
      <mass value="0.0096869"/>
      <inertia ixx="0.001" ixy="0." ixz="0." iyy="0.001" iyz="0." izz="0.001"/>
    </inertial>
    <visual>
      <origin xyz="0. 0. -0." rpy="-3.1415925 0.0000001 -3.1415927"/>
      <geometry>
        <mesh filename="meshes/left_ring_2_visuals.obj" scale="1. 1. 1."/>
      </geometry>
    </visual>
    <collision>
      <origin xyz="0. 0. -0." rpy="-3.1415925 0.0000001 -3.1415927"/>
      <geometry>
        <mesh filename="meshes/left_ring_2_collisions.obj" scale="1. 1. 1."/>
      </geometry>
    </collision>
  </link>
  <link name="left_ring_tip">
    <inertial>
      <origin xyz="0 0 0" rpy="0. 0. 0."/>
      <mass value="0.000001"/>
      <inertia ixx="0.00001" ixy="0." ixz="0." iyy="0.00001" iyz="0." izz="0.00001"/>
    </inertial>
    <visual>
      <origin xyz="-0. 0. 0." rpy="0. 0. -0."/>
      <geometry>
        <sphere radius="0.005"/>
      </geometry>
    </visual>
  </link>
  <link name="left_thumb_1">
    <inertial>
      <origin xyz="0. 0. 0." rpy="0. 0. 0."/>
      <mass value="0.0011552"/>
      <inertia ixx="0.001" ixy="0." ixz="0." iyy="0.001" iyz="0." izz="0.001"/>
    </inertial>
    <visual>
      <origin xyz="0. 0. -0." rpy="-0. -0. -0."/>
      <geometry>
        <mesh filename="meshes/left_thumb_1_visuals.obj" scale="1. 1. 1."/>
      </geometry>
    </visual>
    <collision>
      <origin xyz="0. 0. -0." rpy="-0. -0. -0."/>
      <geometry>
        <mesh filename="meshes/left_thumb_1_collisions.obj" scale="1. 1. 1."/>
      </geometry>
    </collision>
  </link>
  <link name="left_thumb_2">
    <inertial>
      <origin xyz="0. 0. 0." rpy="0. 0. 0."/>
      <mass value="0.0065188"/>
      <inertia ixx="0.001" ixy="0." ixz="0." iyy="0.001" iyz="0." izz="0.001"/>
    </inertial>
    <visual>
      <origin xyz="0. -0. 0." rpy="0.0000002 0. 0.0000003"/>
      <geometry>
        <mesh filename="meshes/left_thumb_2_visuals.obj" scale="1. 1. 1."/>
      </geometry>
    </visual>
    <collision>
      <origin xyz="0. -0. 0." rpy="0.0000002 0. 0.0000003"/>
      <geometry>
        <mesh filename="meshes/left_thumb_2_collisions.obj" scale="1. 1. 1."/>
      </geometry>
    </collision>
  </link>
  <link name="left_thumb_3">
    <inertial>
      <origin xyz="0. 0. 0." rpy="0. 0. 0."/>
      <mass value="0.0040606"/>
      <inertia ixx="0.001" ixy="0." ixz="0." iyy="0.001" iyz="0." izz="0.001"/>
    </inertial>
    <visual>
      <origin xyz="-0.0000001 0. -0. " rpy="-0.0000002 0.0000001 -0.0000001"/>
      <geometry>
        <mesh filename="meshes/left_thumb_3_visuals.obj" scale="1. 1. 1."/>
      </geometry>
    </visual>
    <collision>
      <origin xyz="-0.0000001 0. -0. " rpy="-0.0000002 0.0000001 -0.0000001"/>
      <geometry>
        <mesh filename="meshes/left_thumb_3_collisions.obj" scale="1. 1. 1."/>
      </geometry>
    </collision>
  </link>
  <link name="left_thumb_4">
    <inertial>
      <origin xyz="0. 0. 0." rpy="0. 0. 0."/>
      <mass value="0.0091305"/>
      <inertia ixx="0.001" ixy="0." ixz="0." iyy="0.001" iyz="0." izz="0.001"/>
    </inertial>
    <visual>
      <origin xyz="0. 0. -0." rpy="-0.0000001 -0.0000001 0.0000001"/>
      <geometry>
        <mesh filename="meshes/left_thumb_4_visuals.obj" scale="1. 1. 1."/>
      </geometry>
    </visual>
    <collision>
      <origin xyz="0. 0. -0." rpy="-0.0000001 -0.0000001 0.0000001"/>
      <geometry>
        <mesh filename="meshes/left_thumb_4_collisions.obj" scale="1. 1. 1."/>
      </geometry>
    </collision>
  </link>
  <link name="left_thumb_tip">
    <inertial>
      <origin xyz="0 0 0" rpy="0. 0. 0."/>
      <mass value="0.000001"/>
      <inertia ixx="0.00001" ixy="0." ixz="0." iyy="0.00001" iyz="0." izz="0.00001"/>
    </inertial>
    <visual>
      <origin xyz="0. 0. -0." rpy="0. 0. 0."/>
      <geometry>
        <sphere radius="0.005"/>
      </geometry>
    </visual>
  </link>
  
  <link name="right_base_link">
    <inertial>
      <origin xyz="0. 0. 0." rpy="0. 0. 0."/>
      <mass value="0.3140909"/>
      <inertia ixx="0.001" ixy="0." ixz="0." iyy="0.001" iyz="0." izz="0.001"/>
    </inertial>
    <visual>
      <origin xyz="-0. 0. 0.0000001" rpy="0. 0.0000002 0. "/>
      <geometry>
        <mesh filename="meshes/right_base_link_visuals.obj" scale="1. 1. 1."/>
      </geometry>
    </visual>
    <collision>
      <origin xyz="-0. 0. 0.0000001" rpy="0. 0.0000002 0. "/>
      <geometry>
        <mesh filename="meshes/right_base_link_collisions.obj" scale="1. 1. 1."/>
      </geometry>
    </collision>
  </link>
  <link name="right_index_1">
    <inertial>
      <origin xyz="0. 0. 0." rpy="0. 0. 0."/>
      <mass value="0.0072"/>
      <inertia ixx="0.001" ixy="0." ixz="0." iyy="0.001" iyz="0." izz="0.001"/>
    </inertial>
    <visual>
      <origin xyz="0. 0. 0." rpy="0.0000001 -0.0000001 -0.0000001"/>
      <geometry>
        <mesh filename="meshes/right_index_1_visuals.obj" scale="1. 1. 1."/>
      </geometry>
    </visual>
    <collision>
      <origin xyz="0. 0. 0." rpy="0.0000001 -0.0000001 -0.0000001"/>
      <geometry>
        <mesh filename="meshes/right_index_1_collisions.obj" scale="1. 1. 1."/>
      </geometry>
    </collision>
  </link>
  <link name="right_index_2">
    <inertial>
      <origin xyz="0. 0. 0." rpy="0. 0. 0."/>
      <mass value="0.0096859"/>
      <inertia ixx="0.001" ixy="0." ixz="0." iyy="0.001" iyz="0." izz="0.001"/>
    </inertial>
    <visual>
      <origin xyz="-0. 0. -0." rpy="-0. 0.0000001 -0. "/>
      <geometry>
        <mesh filename="meshes/right_index_2_visuals.obj" scale="1. 1. 1."/>
      </geometry>
    </visual>
    <collision>
      <origin xyz="-0. 0. -0." rpy="-0. 0.0000001 -0. "/>
      <geometry>
        <mesh filename="meshes/right_index_2_collisions.obj" scale="1. 1. 1."/>
      </geometry>
    </collision>
  </link>
  <link name="right_index_tip">
    <inertial>
      <origin xyz="0 0 0" rpy="0. 0. 0."/>
      <mass value="0.000001"/>
      <inertia ixx="0.00001" ixy="0." ixz="0." iyy="0.00001" iyz="0." izz="0.00001"/>
    </inertial>
    <visual>
      <origin xyz="-0. 0. 0." rpy="-0. 0. 0.0000002"/>
      <geometry>
        <sphere radius="0.005"/>
      </geometry>
    </visual>
  </link>
  <link name="right_little_1">
    <inertial>
      <origin xyz="0. 0. 0." rpy="0. 0. 0."/>
      <mass value="0.0072"/>
      <inertia ixx="0.001" ixy="0." ixz="0." iyy="0.001" iyz="0." izz="0.001"/>
    </inertial>
    <visual>
      <origin xyz="0. 0. -0." rpy="0.0000002 -0. -0.0000001"/>
      <geometry>
        <mesh filename="meshes/right_little_1_visuals.obj" scale="1. 1. 1."/>
      </geometry>
    </visual>
    <collision>
      <origin xyz="0. 0. -0." rpy="0.0000002 -0. -0.0000001"/>
      <geometry>
        <mesh filename="meshes/right_little_1_collisions.obj" scale="1. 1. 1."/>
      </geometry>
    </collision>
  </link>
  <link name="right_little_2">
    <inertial>
      <origin xyz="0. 0. 0." rpy="0. 0. 0."/>
      <mass value="0.0075928"/>
      <inertia ixx="0.001" ixy="0." ixz="0." iyy="0.001" iyz="0." izz="0.001"/>
    </inertial>
    <visual>
      <origin xyz="0. 0. 0." rpy="-0.0000001 -0.0000001 0.0000002"/>
      <geometry>
        <mesh filename="meshes/right_little_2_visuals.obj" scale="1. 1. 1."/>
      </geometry>
    </visual>
    <collision>
      <origin xyz="0. 0. 0." rpy="-0.0000001 -0.0000001 0.0000002"/>
      <geometry>
        <mesh filename="meshes/right_little_2_collisions.obj" scale="1. 1. 1."/>
      </geometry>
    </collision>
  </link>
  <link name="right_little_tip">
    <inertial>
      <origin xyz="0 0 0" rpy="0. 0. 0."/>
      <mass value="0.000001"/>
      <inertia ixx="0.00001" ixy="0." ixz="0." iyy="0.00001" iyz="0." izz="0.00001"/>
    </inertial>
    <visual>
      <origin xyz="0. 0. -0." rpy="0. 0. 0."/>
      <geometry>
        <sphere radius="0.005"/>
      </geometry>
    </visual>
  </link>
  <link name="right_middle_1">
    <inertial>
      <origin xyz="0. 0. 0." rpy="0. 0. 0."/>
      <mass value="0.0072"/>
      <inertia ixx="0.001" ixy="0." ixz="0." iyy="0.001" iyz="0." izz="0.001"/>
    </inertial>
    <visual>
      <origin xyz="0. 0. 0." rpy="0.0000001 0. -0.0000002"/>
      <geometry>
        <mesh filename="meshes/right_middle_1_visuals.obj" scale="1. 1. 1."/>
      </geometry>
    </visual>
    <collision>
      <origin xyz="0. 0. 0." rpy="0.0000001 0. -0.0000002"/>
      <geometry>
        <mesh filename="meshes/right_middle_1_collisions.obj" scale="1. 1. 1."/>
      </geometry>
    </collision>
  </link>
  <link name="right_middle_2">
    <inertial>
      <origin xyz="0. 0. 0." rpy="0. 0. 0."/>
      <mass value="0.0104603"/>
      <inertia ixx="0.001" ixy="0." ixz="0." iyy="0.001" iyz="0." izz="0.001"/>
    </inertial>
    <visual>
      <origin xyz="-0. 0. -0." rpy="0.0000001 -0.0000001 0. "/>
      <geometry>
        <mesh filename="meshes/right_middle_2_visuals.obj" scale="1. 1. 1."/>
      </geometry>
    </visual>
    <collision>
      <origin xyz="-0. 0. -0." rpy="0.0000001 -0.0000001 0. "/>
      <geometry>
        <mesh filename="meshes/right_middle_2_collisions.obj" scale="1. 1. 1."/>
      </geometry>
    </collision>
  </link>
  <link name="right_middle_tip">
    <inertial>
      <origin xyz="0 0 0" rpy="0. 0. 0."/>
      <mass value="0.000001"/>
      <inertia ixx="0.00001" ixy="0." ixz="0." iyy="0.00001" iyz="0." izz="0.00001"/>
    </inertial>
    <visual>
      <origin xyz="0. 0. 0." rpy="0. 0. 0."/>
      <geometry>
        <sphere radius="0.005"/>
      </geometry>
    </visual>
  </link>
  <link name="right_ring_1">
    <inertial>
      <origin xyz="0. 0. 0." rpy="0. 0. 0."/>
      <mass value="0.0072"/>
      <inertia ixx="0.001" ixy="0." ixz="0." iyy="0.001" iyz="0." izz="0.001"/>
    </inertial>
    <visual>
      <origin xyz="0. 0. 0." rpy="0. -0. -0.0000001"/>
      <geometry>
        <mesh filename="meshes/right_ring_1_visuals.obj" scale="1. 1. 1."/>
      </geometry>
    </visual>
    <collision>
      <origin xyz="0. 0. 0." rpy="0. -0. -0.0000001"/>
      <geometry>
        <mesh filename="meshes/right_ring_1_collisions.obj" scale="1. 1. 1."/>
      </geometry>
    </collision>
  </link>
  <link name="right_ring_2">
    <inertial>
      <origin xyz="0. 0. 0." rpy="0. 0. 0."/>
      <mass value="0.0096859"/>
      <inertia ixx="0.001" ixy="0." ixz="0." iyy="0.001" iyz="0." izz="0.001"/>
    </inertial>
    <visual>
      <origin xyz="-0. 0. -0." rpy="0.0000001 -0. 0. "/>
      <geometry>
        <mesh filename="meshes/right_ring_2_visuals.obj" scale="1. 1. 1."/>
      </geometry>
    </visual>
    <collision>
      <origin xyz="-0. 0. -0." rpy="0.0000001 -0. 0. "/>
      <geometry>
        <mesh filename="meshes/right_ring_2_collisions.obj" scale="1. 1. 1."/>
      </geometry>
    </collision>
  </link>
  <link name="right_ring_tip">
    <inertial>
      <origin xyz="0 0 0" rpy="0. 0. 0."/>
      <mass value="0.000001"/>
      <inertia ixx="0.00001" ixy="0." ixz="0." iyy="0.00001" iyz="0." izz="0.00001"/>
    </inertial>
    <visual>
      <origin xyz="-0. 0. 0." rpy="0. -0. 0.0000002"/>
      <geometry>
        <sphere radius="0.005"/>
      </geometry>
    </visual>
  </link>
  <link name="right_thumb_1">
    <inertial>
      <origin xyz="0. 0. 0." rpy="0. 0. 0."/>
      <mass value="0.0011552"/>
      <inertia ixx="0.001" ixy="0." ixz="0." iyy="0.001" iyz="0." izz="0.001"/>
    </inertial>
    <visual>
      <origin xyz="-0. -0. -0." rpy="-3.1415925 0.0000002 -3.1415925"/>
      <geometry>
        <mesh filename="meshes/right_thumb_1_visuals.obj" scale="1. 1. 1."/>
      </geometry>
    </visual>
    <collision>
      <origin xyz="-0. -0. -0." rpy="-3.1415925 0.0000002 -3.1415925"/>
      <geometry>
        <mesh filename="meshes/right_thumb_1_collisions.obj" scale="1. 1. 1."/>
      </geometry>
    </collision>
  </link>
  <link name="right_thumb_2">
    <inertial>
      <origin xyz="0. 0. 0." rpy="0. 0. 0."/>
      <mass value="0.03"/>
      <inertia ixx="0.001" ixy="0." ixz="0." iyy="0.001" iyz="0." izz="0.001"/>
    </inertial>
    <visual>
      <origin xyz="-0. -0. 0." rpy="-0.0000002 -0.0000002 -0.0000001"/>
      <geometry>
        <mesh filename="meshes/right_thumb_2_visuals.obj" scale="1. 1. 1."/>
      </geometry>
    </visual>
    <collision>
      <origin xyz="-0. -0. 0." rpy="-0.0000002 -0.0000002 -0.0000001"/>
      <geometry>
        <mesh filename="meshes/right_thumb_2_collisions.obj" scale="1. 1. 1."/>
      </geometry>
    </collision>
  </link>
  <link name="right_thumb_3">
    <inertial>
      <origin xyz="0. 0. 0." rpy="0. 0. 0."/>
      <mass value="0.02"/>
      <inertia ixx="0.001" ixy="0." ixz="0." iyy="0.001" iyz="0." izz="0.001"/>
    </inertial>
    <visual>
      <origin xyz="-0. 0. -0." rpy="-0.0000002 -0.0000002 0.0000006"/>
      <geometry>
        <mesh filename="meshes/right_thumb_3_visuals.obj" scale="1. 1. 1."/>
      </geometry>
    </visual>
    <collision>
      <origin xyz="-0. 0. -0." rpy="-0.0000002 -0.0000002 0.0000006"/>
      <geometry>
        <mesh filename="meshes/right_thumb_3_collisions.obj" scale="1. 1. 1."/>
      </geometry>
    </collision>
  </link>
  <link name="right_thumb_4">
    <inertial>
      <origin xyz="0. 0. 0." rpy="0. 0. 0."/>
      <mass value="0.014"/>
      <inertia ixx="0.001" ixy="0." ixz="0." iyy="0.001" iyz="0." izz="0.001"/>
    </inertial>
    <visual>
      <origin xyz="0. 0. -0." rpy="0.0000002 0.0000001 0.0000002"/>
      <geometry>
        <mesh filename="meshes/right_thumb_4_visuals.obj" scale="1. 1. 1."/>
      </geometry>
    </visual>
    <collision>
      <origin xyz="0. 0. -0." rpy="0.0000002 0.0000001 0.0000002"/>
      <geometry>
        <mesh filename="meshes/right_thumb_4_collisions.obj" scale="1. 1. 1."/>
      </geometry>
    </collision>
  </link>
  <link name="right_thumb_tip">
    <inertial>
      <origin xyz="0 0 0" rpy="0. 0. 0."/>
      <mass value="0.000001"/>
      <inertia ixx="0.00001" ixy="0." ixz="0." iyy="0.00001" iyz="0." izz="0.00001"/>
    </inertial>
    <visual>
      <origin xyz="-0. -0. 0." rpy="0. 0. 0."/>
      <geometry>
        <sphere radius="0.005"/>
      </geometry>
    </visual>
  </link>


  <link name="right_shoulder_pitch_link">
    <inertial>
      <origin xyz="0 -0.035892 -0.011628" rpy="0 0 0"/>
      <mass value="0.718"/>
      <inertia ixx="0.0004291" ixy="9.2E-06" ixz="6.4E-06" iyy="0.000453" iyz="-2.26E-05" izz="0.000423"/>
    </inertial>
    <visual>
      <origin xyz="0 0 0" rpy="0 0 0"/>
      <geometry>
        <mesh filename="meshes/right_shoulder_pitch_link.STL"/>
      </geometry>
      <material name="white">
        <color rgba="0.7 0.7 0.7 1"/>
      </material>
    </visual>
    <collision>
      <origin xyz="0 -0.04 -0.01" rpy="0 1.5707963267948966 0"/>
      <geometry>
        <cylinder radius="0.03" length="0.05"/>
      </geometry>
    </collision>
  </link>
  <joint name="right_shoulder_pitch_joint" type="revolute">
    <origin xyz="0.0039563 -0.10021 0.24778" rpy="-0.27931 5.4949E-05 0.00019159"/>
    <parent link="torso_link"/>
    <child link="right_shoulder_pitch_link"/>
    <axis xyz="0 1 0"/>
    <limit lower="-3.0892" upper="2.6704" effort="25" velocity="37"/>
  </joint>
  <link name="right_shoulder_roll_link">
    <inertial>
      <origin xyz="-0.000227 -0.00727 -0.063243" rpy="0 0 0"/>
      <mass value="0.643"/>
      <inertia ixx="0.0006177" ixy="1E-06" ixz="8.7E-06" iyy="0.0006912" iyz="5.3E-06" izz="0.0003894"/>
    </inertial>
    <visual>
      <origin xyz="0 0 0" rpy="0 0 0"/>
      <geometry>
        <mesh filename="meshes/right_shoulder_roll_link.STL"/>
      </geometry>
      <material name="white">
        <color rgba="0.7 0.7 0.7 1"/>
      </material>
    </visual>
    <collision>
      <origin xyz="-0.004 -0.006 -0.053" rpy="0 0 0"/>
      <geometry>
        <cylinder radius="0.03" length="0.03"/>
      </geometry>
    </collision>
  </link>
  <joint name="right_shoulder_roll_joint" type="revolute">
    <origin xyz="0 -0.038 -0.013831" rpy="0.27925 0 0"/>
    <parent link="right_shoulder_pitch_link"/>
    <child link="right_shoulder_roll_link"/>
    <axis xyz="1 0 0"/>
    <limit lower="-2.2515" upper="1.5882" effort="25" velocity="37"/>
  </joint>
  <link name="right_shoulder_yaw_link">
    <inertial>
      <origin xyz="0.010773 0.002949 -0.072009" rpy="0 0 0"/>
      <mass value="0.734"/>
      <inertia ixx="0.0009988" ixy="-7.9E-06" ixz="0.0001412" iyy="0.0010605" iyz="2.86E-05" izz="0.0004354"/>
    </inertial>
    <visual>
      <origin xyz="0 0 0" rpy="0 0 0"/>
      <geometry>
        <mesh filename="meshes/right_shoulder_yaw_link.STL"/>
      </geometry>
      <material name="white">
        <color rgba="0.7 0.7 0.7 1"/>
      </material>
    </visual>
    <collision>
      <origin xyz="0 0 0" rpy="0 0 0"/>
      <geometry>
        <mesh filename="meshes/right_shoulder_yaw_link.STL"/>
      </geometry>
    </collision>
  </link>
  <joint name="right_shoulder_yaw_joint" type="revolute">
    <origin xyz="0 -0.00624 -0.1032" rpy="0 0 0"/>
    <parent link="right_shoulder_roll_link"/>
    <child link="right_shoulder_yaw_link"/>
    <axis xyz="0 0 1"/>
    <limit lower="-2.618" upper="2.618" effort="25" velocity="37"/>
  </joint>
  <link name="right_elbow_link">
    <inertial>
      <origin xyz="0.064956 -0.004454 -0.010062" rpy="0 0 0"/>
      <mass value="0.6"/>
      <inertia ixx="0.0002891" ixy="-6.53E-05" ixz="1.72E-05" iyy="0.0004152" iyz="5.6E-06" izz="0.0004197"/>
    </inertial>
    <visual>
      <origin xyz="0 0 0" rpy="0 0 0"/>
      <geometry>
        <mesh filename="meshes/right_elbow_link.STL"/>
      </geometry>
      <material name="white">
        <color rgba="0.7 0.7 0.7 1"/>
      </material>
    </visual>
    <collision>
      <origin xyz="0 0 0" rpy="0 0 0"/>
      <geometry>
        <mesh filename="meshes/right_elbow_link.STL"/>
      </geometry>
    </collision>
  </link>
  <joint name="right_elbow_joint" type="revolute">
    <origin xyz="0.015783 0 -0.080518" rpy="0 0 0"/>
    <parent link="right_shoulder_yaw_link"/>
    <child link="right_elbow_link"/>
    <axis xyz="0 1 0"/>
    <limit lower="-1.0472" upper="2.0944" effort="25" velocity="37"/>
  </joint>
  <joint name="right_wrist_roll_joint" type="revolute">
    <origin xyz="0.100 -0.00188791 -0.010" rpy="0 0 0"/>
    <axis xyz="1 0 0"/>
    <parent link="right_elbow_link"/>
    <child link="right_wrist_roll_link"/>
    <limit effort="25" velocity="37" lower="-1.972222054" upper="1.972222054"/>
  </joint>
  <link name="right_wrist_roll_link">
    <inertial>
      <origin xyz="0.01713944778 -0.00053759094 0.00000048864" rpy="0 0 0"/>
      <mass value="0.08544498"/>
      <inertia ixx="0.00004821544023" ixy="0.00000424511021" ixz="0.00000000510599" iyy="0.00003722899093" iyz="0.00000000123525" izz="0.00005482106541"/>
    </inertial>
    <visual>
      <origin xyz="0 0 0" rpy="0 0 0"/>
      <geometry>
        <mesh filename="meshes/right_wrist_roll_link.STL"/>
      </geometry>
      <material name="white">
        <color rgba="0.7 0.7 0.7 1"/>
      </material>
    </visual>
    <collision>
      <origin xyz="0 0 0" rpy="0 0 0"/>
      <geometry>
        <mesh filename="meshes/right_wrist_roll_link.STL"/>
      </geometry>
    </collision>
  </link>
  <joint name="right_wrist_pitch_joint" type="revolute">
    <origin xyz="0.038 0 0" rpy="0 0 0"/>
    <axis xyz="0 1 0"/>
    <parent link="right_wrist_roll_link"/>
    <child link="right_wrist_pitch_link"/>
    <limit effort="5" velocity="22" lower="-1.614429558" upper="1.614429558"/>
  </joint>
  <link name="right_wrist_pitch_link">
    <inertial>
      <origin xyz="0.02299989837 0.00111685314 -0.00111658096" rpy="0 0 0"/>
      <mass value="0.48404956"/>
      <inertia ixx="0.00016579646273" ixy="0.00001231206746" ixz="0.00001231699194" iyy="0.00042954057410" iyz="-0.00000081417712" izz="0.00042953697654"/>
    </inertial>
    <visual>
      <origin xyz="0 0 0" rpy="0 0 0"/>
      <geometry>
        <mesh filename="meshes/right_wrist_pitch_link.STL"/>
      </geometry>
      <material name="white">
        <color rgba="0.7 0.7 0.7 1"/>
      </material>
    </visual>
    <collision>
      <origin xyz="0 0 0" rpy="0 0 0"/>
      <geometry>
        <mesh filename="meshes/right_wrist_pitch_link.STL"/>
      </geometry>
    </collision>
  </link>
  <joint name="right_wrist_yaw_joint" type="revolute">
    <origin xyz="0.046 0 0" rpy="0 0 0"/>
    <axis xyz="0 0 1"/>
    <parent link="right_wrist_pitch_link"/>
    <child link="right_wrist_yaw_link"/>
    <limit effort="5" velocity="22" lower="-1.614429558" upper="1.614429558"/>
  </joint>
  <link name="right_wrist_yaw_link">
    <inertial>
      <origin xyz="0.02200381568 -0.00049485096 0.00053861123" rpy="0 0 0"/>
      <mass value="0.08457647"/>
      <inertia ixx="0.00004929128828" ixy="0.00000045735494" ixz="0.00000445867591" iyy="0.00005973338134" iyz="-0.00000043217198" izz="0.00003928083826"/>
    </inertial>
    <visual>
      <origin xyz="0 0 0" rpy="0 0 0"/>
      <geometry>
        <mesh filename="meshes/right_wrist_yaw_link.STL"/>
      </geometry>
      <material name="white">
        <color rgba="0.7 0.7 0.7 1"/>
      </material>
    </visual>
    <collision>
      <origin xyz="0 0 0" rpy="0 0 0"/>
      <geometry>
        <mesh filename="meshes/right_wrist_yaw_link.STL"/>
      </geometry>
    </collision>
  </link>
  <joint name="right_hand_palm_joint" type="fixed">
    <origin xyz="0.152 0.109 -0.01 " rpy="0.0000122 1.57 0.0000122"/>
    <parent link="right_wrist_yaw_link"/>
    <child link="right_base_link"/>
  </joint>
</robot>
